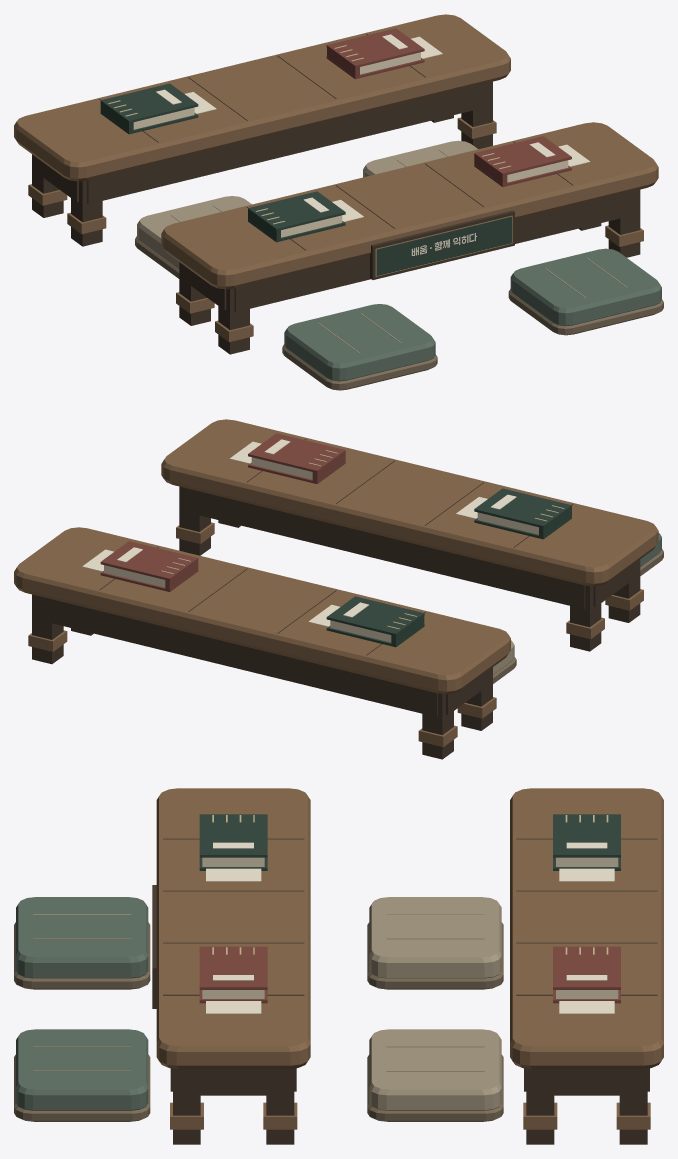
The model's file is 03_Floor_Study_Desks.fbx.
3 renders of one model, top to bottom at view 1: azimuth 30°, elevation 25°; view 2: azimuth 150°, elevation 25°; view 3: azimuth 270°, elevation 25°, orthographic. The views are drawn at different scales.
Visible parts, largest first — view 1: 03_Floor_Study_Desks, 03_Floor_Study_Desks__Structure; view 2: 03_Floor_Study_Desks; view 3: 03_Floor_Study_Desks, 03_Floor_Study_Desks__Structure.
Boxes of the visible parts, box(x1,y1,x2,y2) form: 03_Floor_Study_Desks: box(14, 14, 663, 390); 03_Floor_Study_Desks__Structure: box(370, 210, 514, 279); 03_Floor_Study_Desks: box(14, 419, 663, 759); 03_Floor_Study_Desks: box(14, 788, 663, 1144); 03_Floor_Study_Desks__Structure: box(152, 885, 156, 1008).
Size of the model in its own units: 244 by 54.55 by 257.
Materials: 1 (1 with a texture image).
